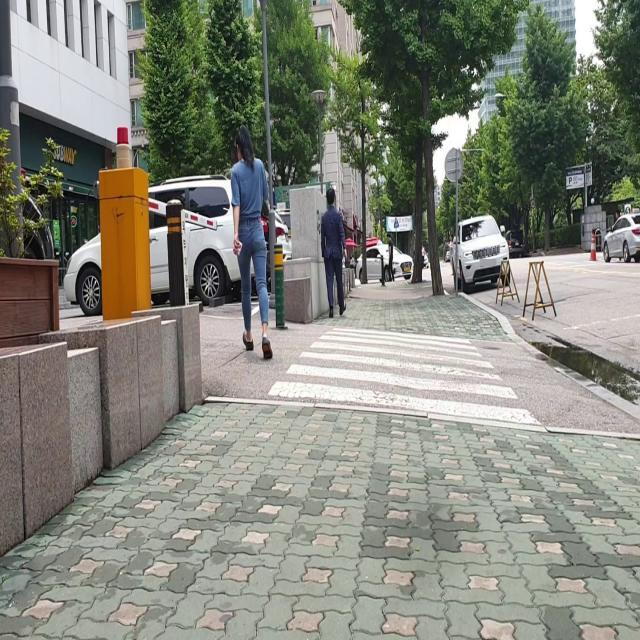횡단보도: (265, 323, 543, 429)
